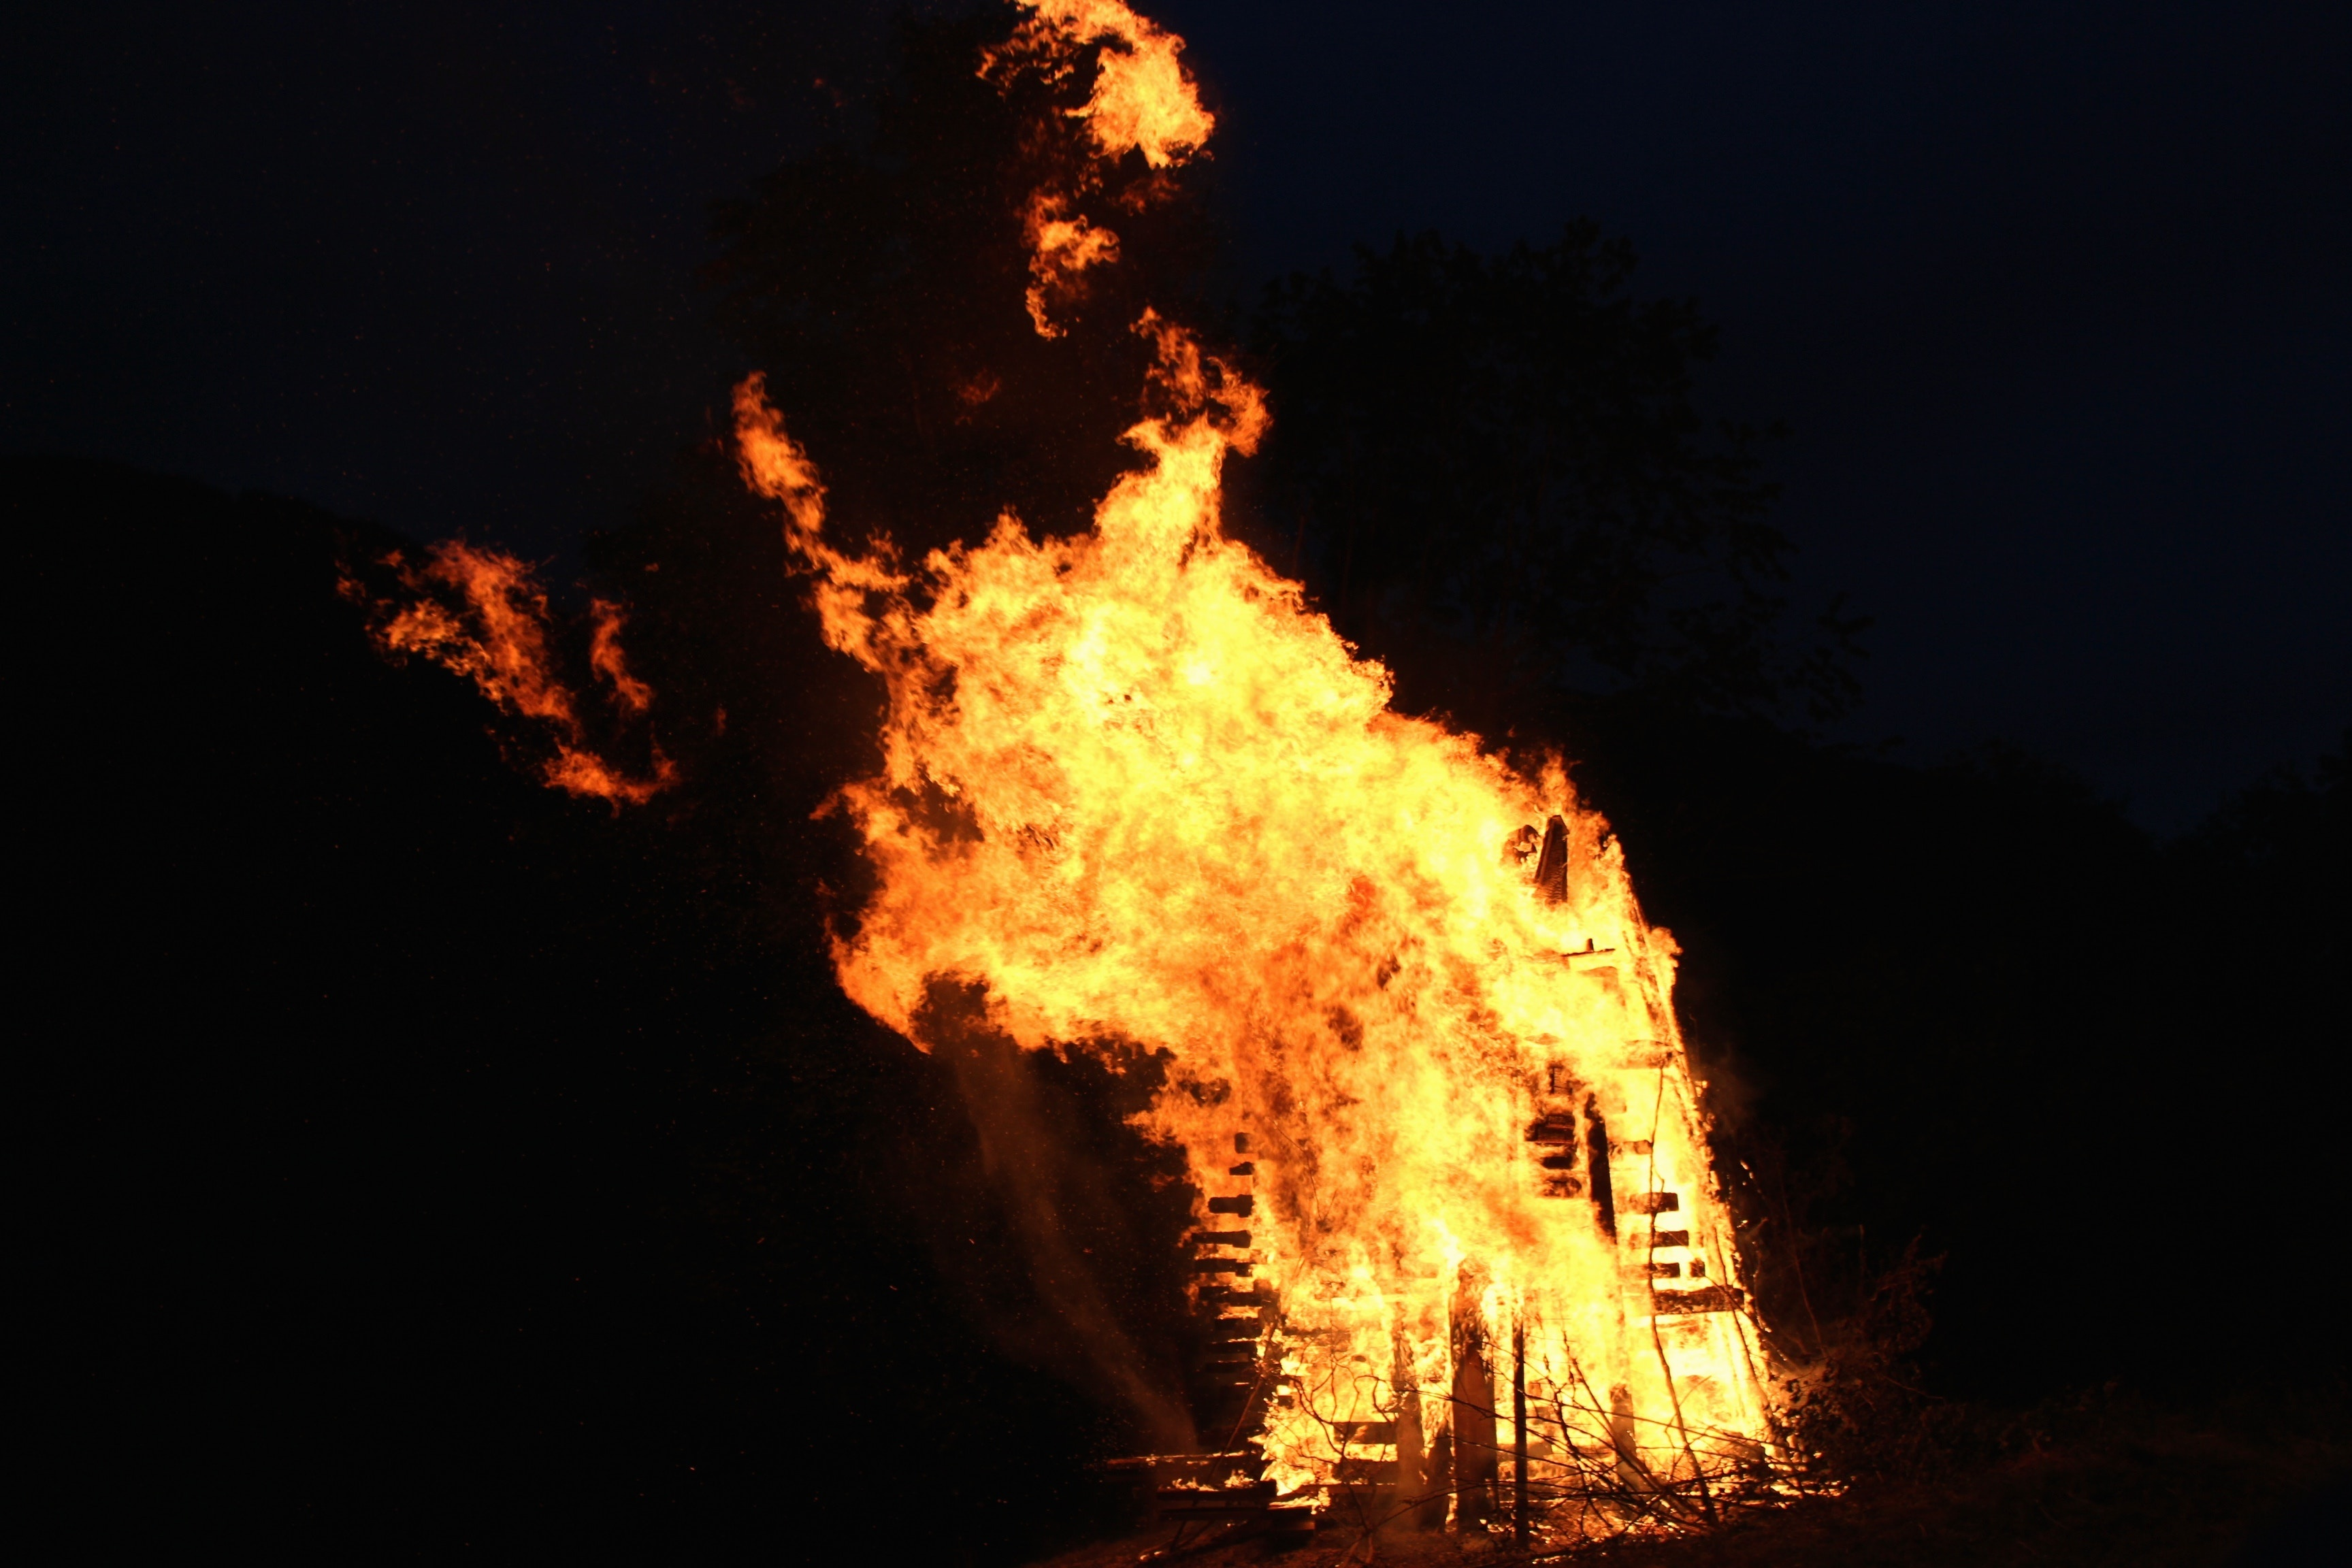fire: (802, 203, 1857, 1510), (355, 532, 660, 803)
